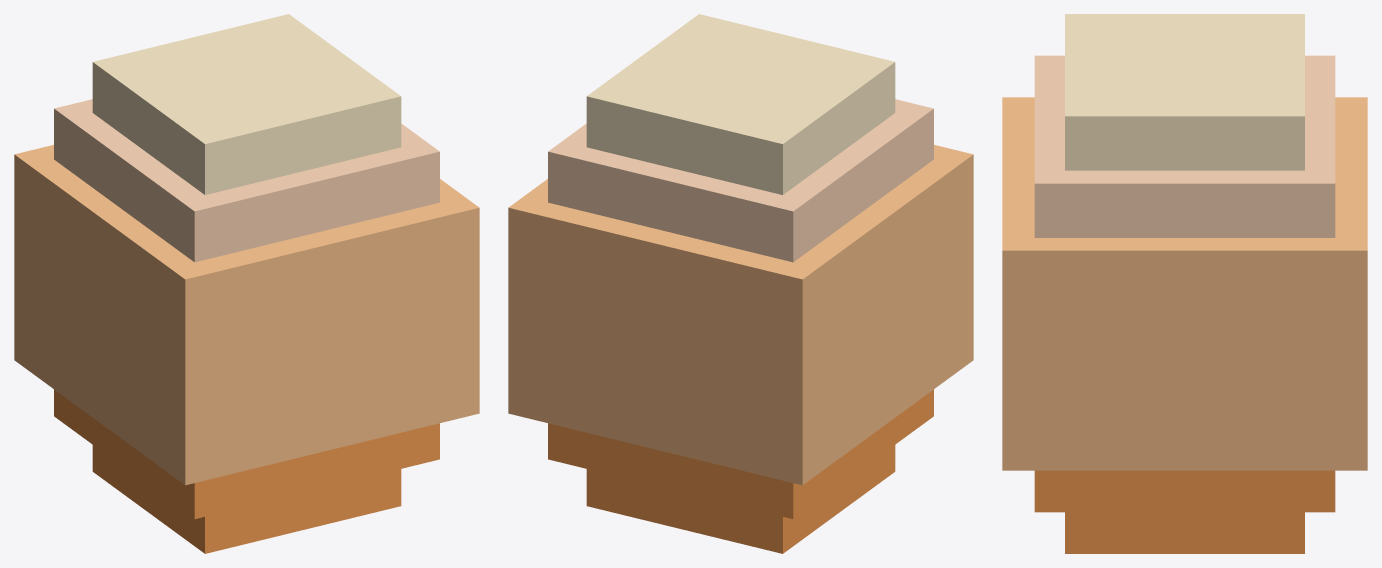
File: egg_basic.obj
The picture shows the model from 3 angles, left to right: view 1: azimuth 30°, elevation 25°; view 2: azimuth 150°, elevation 25°; view 3: azimuth 270°, elevation 25°; orthographic projection. The views are drawn at different scales.
Parts seen in each view (by area): view 1: E3, E1U, E2U, E2D, E1D; view 2: E3, E1U, E2U, E2D, E1D; view 3: E3, E1U, E2U, E2D, E1D.
Boxes of the visible parts, box(x1,y1,x2,y2) form: E3: box(14, 145, 479, 485); E1U: box(92, 14, 401, 194); E2U: box(54, 99, 439, 262); E2D: box(54, 389, 439, 519); E1D: box(92, 445, 401, 553); E3: box(508, 145, 973, 485); E1U: box(586, 14, 895, 194); E2U: box(548, 99, 933, 262); E2D: box(548, 389, 933, 519); E1D: box(586, 445, 895, 553); E3: box(1002, 97, 1367, 470); E1U: box(1065, 14, 1304, 170); E2U: box(1034, 55, 1335, 237); E2D: box(1034, 470, 1335, 512); E1D: box(1065, 512, 1304, 553).
Bounding box in the file's own units: 1.57 × 2.09 × 1.58.
